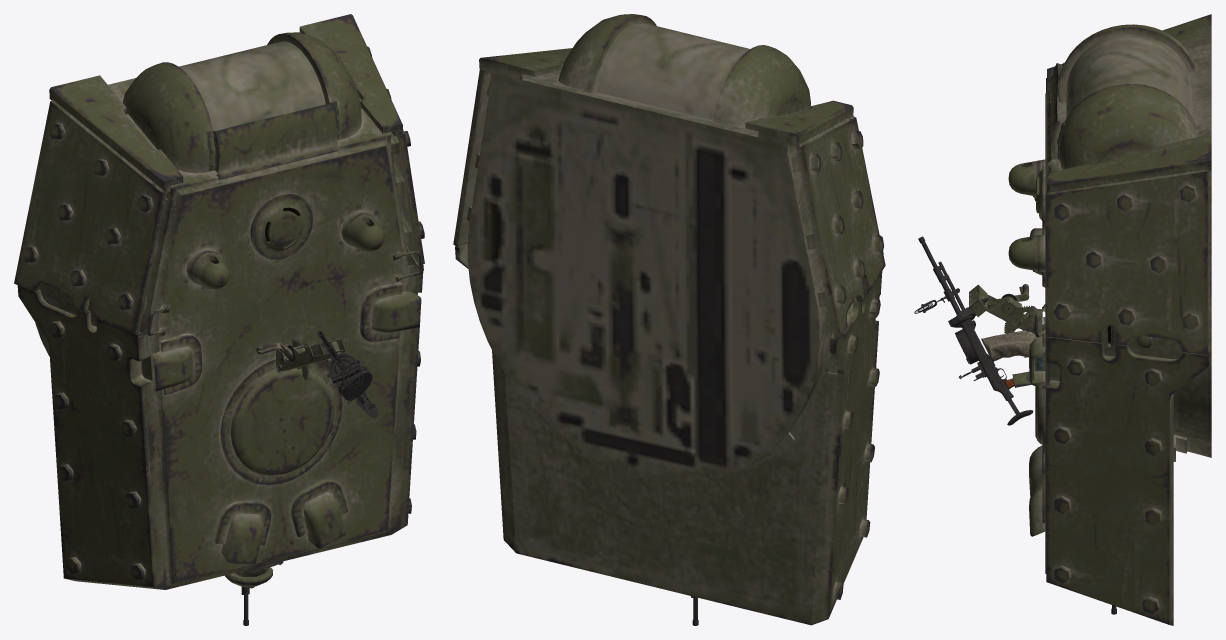
The model's file is Turret_01.glb.
The picture shows the model from 3 angles, left to right: view 1: azimuth 30°, elevation 25°; view 2: azimuth 150°, elevation 25°; view 3: azimuth 270°, elevation 25°; orthographic projection. The views are drawn at different scales.
Parts seen in each view (by area): view 1: set_0_group_0; view 2: set_0_group_0; view 3: set_0_group_0.
Boxes of the visible parts, <box> form: set_0_group_0: <box>14,14,424,625</box>; set_0_group_0: <box>453,14,885,625</box>; set_0_group_0: <box>914,14,1211,625</box>.
Size of the model in its own units: 2.09 by 3.07 by 1.48.
Materials: 1 (1 with a texture image).
